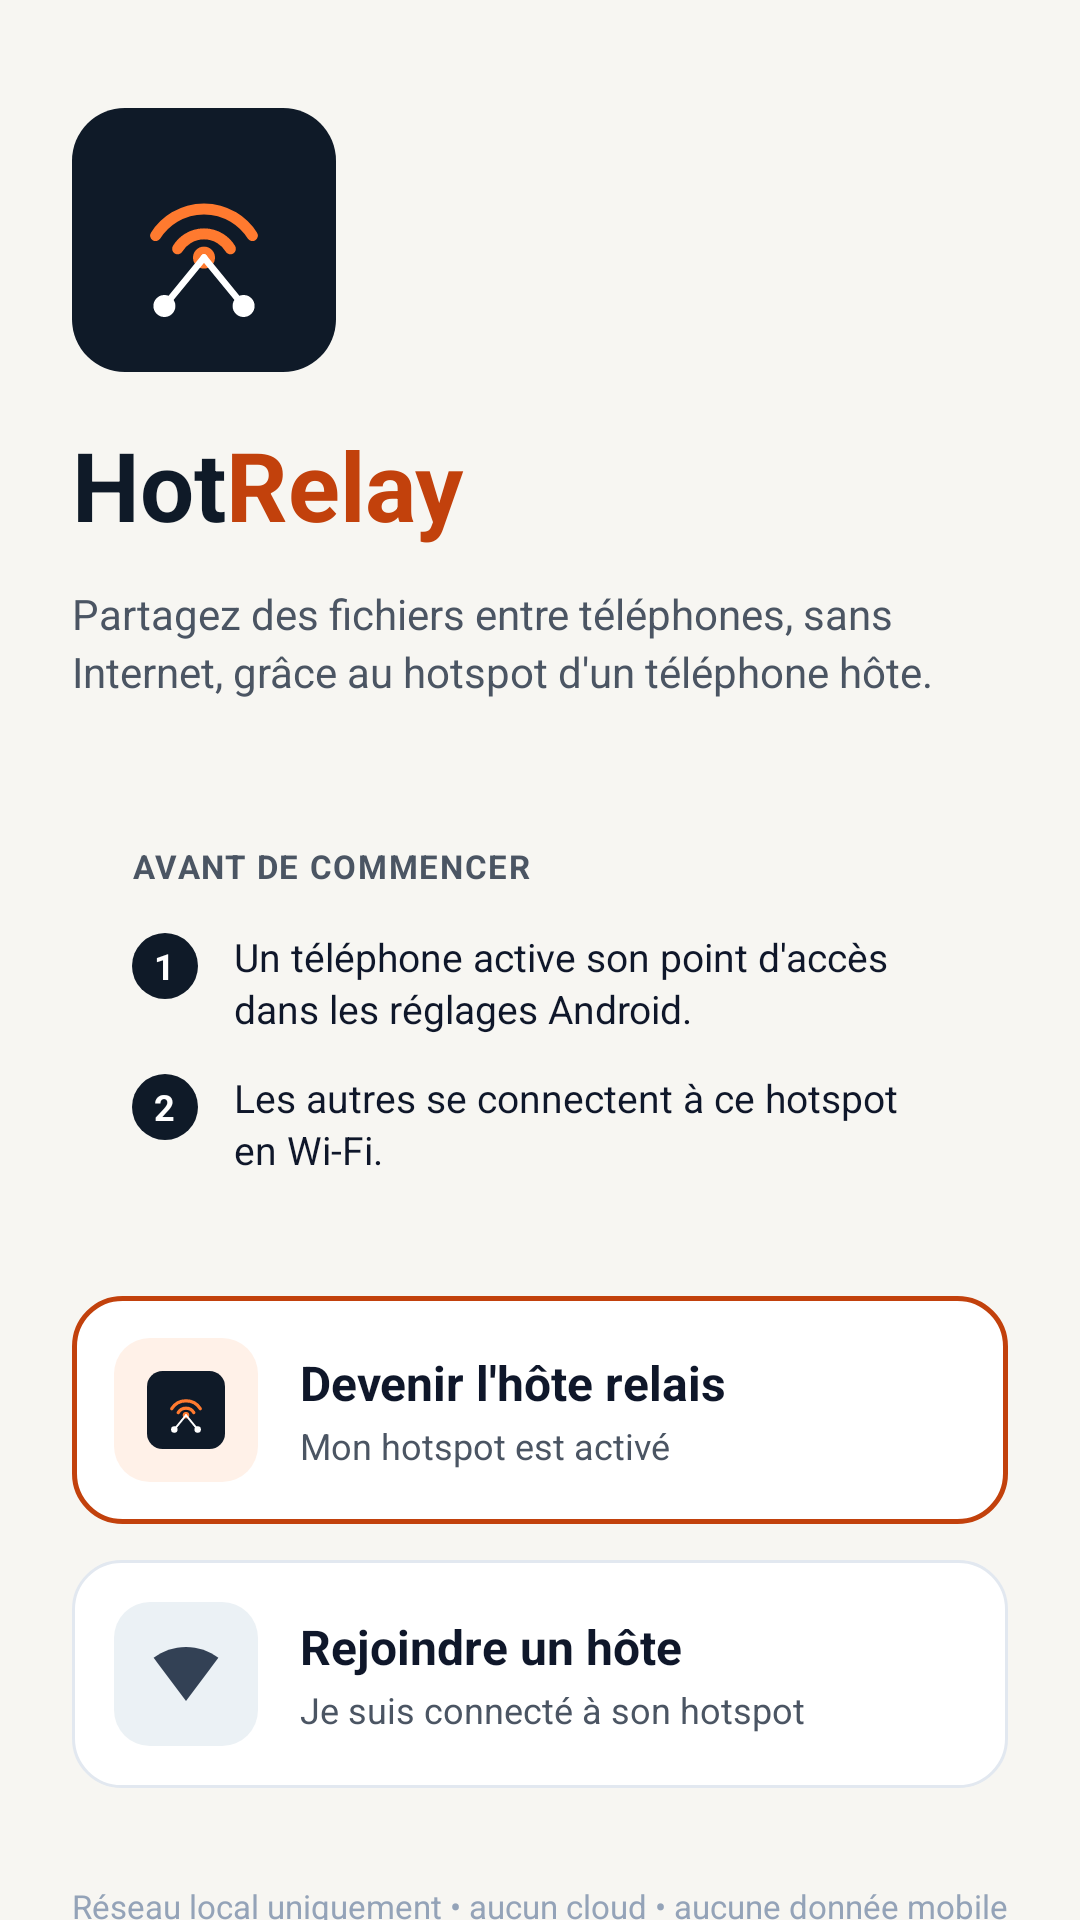

Point at icon controls on the screen. Image size 1080*1920, points as [x,y].
wifi: [186,1674]
